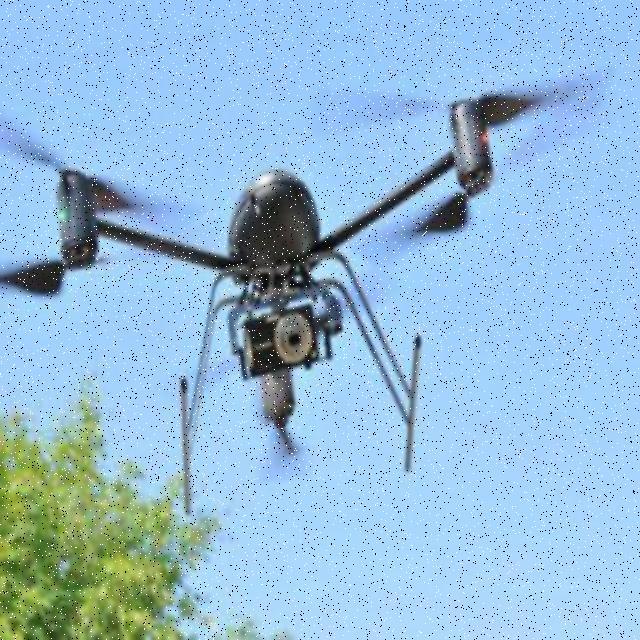UAV: (53, 88, 518, 517)
